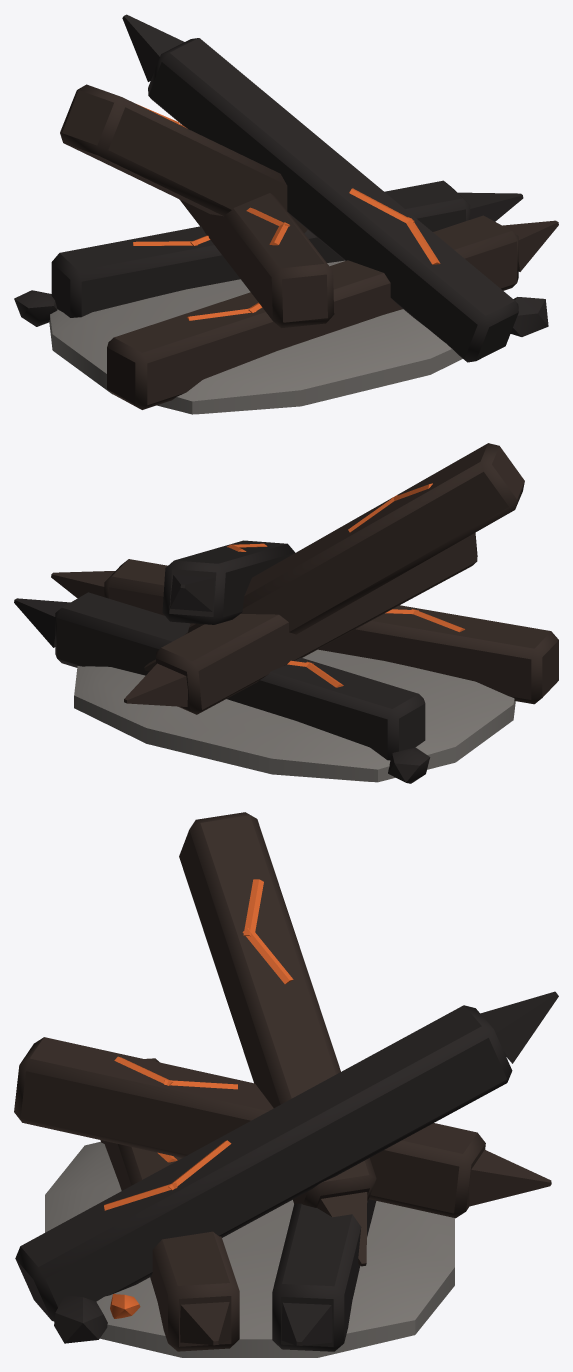
File: ash_beams.fbx
3 views of the same model, one above another, from view 1: azimuth 30°, elevation 25°; view 2: azimuth 150°, elevation 25°; view 3: azimuth 270°, elevation 25° (orthographic). The views are drawn at different scales.
Parts seen in each view (by area): view 1: ash_beams; view 2: ash_beams; view 3: ash_beams.
Part boxes in pixels (x1=…): ash_beams: x1=14, y1=14, x2=558, y2=414; ash_beams: x1=14, y1=443, x2=558, y2=783; ash_beams: x1=14, y1=812, x2=558, y2=1357.
Size of the model in its own units: 2.32 by 1.38 by 1.96.
